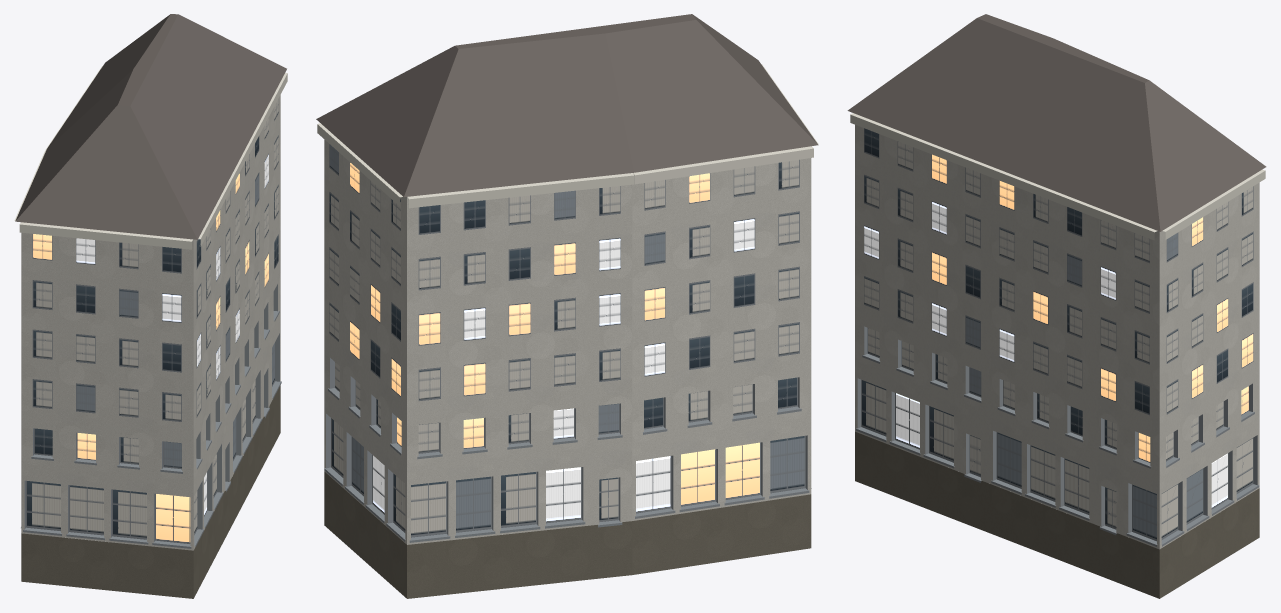
3 views of the same model, side by side, from view 1: azimuth 30°, elevation 25°; view 2: azimuth 150°, elevation 25°; view 3: azimuth 270°, elevation 25° (orthographic). The views are drawn at different scales.
Visible parts, largest first — view 1: z3c_zy_se; view 2: z3c_zy_se; view 3: z3c_zy_se.
Part boxes in pixels (box(x1,y1,x2,y2)): z3c_zy_se: box(14, 14, 287, 598); z3c_zy_se: box(316, 14, 818, 598); z3c_zy_se: box(847, 14, 1266, 598).
Bounding box in the file's own units: 23.44 × 27.97 × 23.04.
3 materials, 3 textured.
